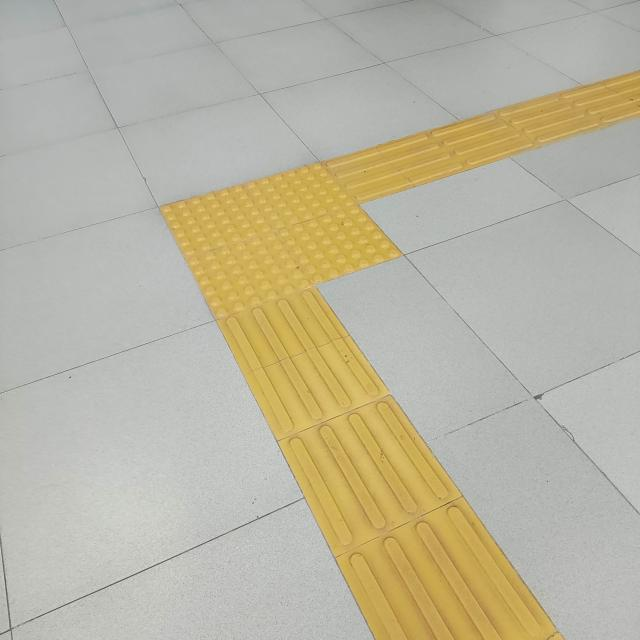kanan: (116, 99, 525, 350)
